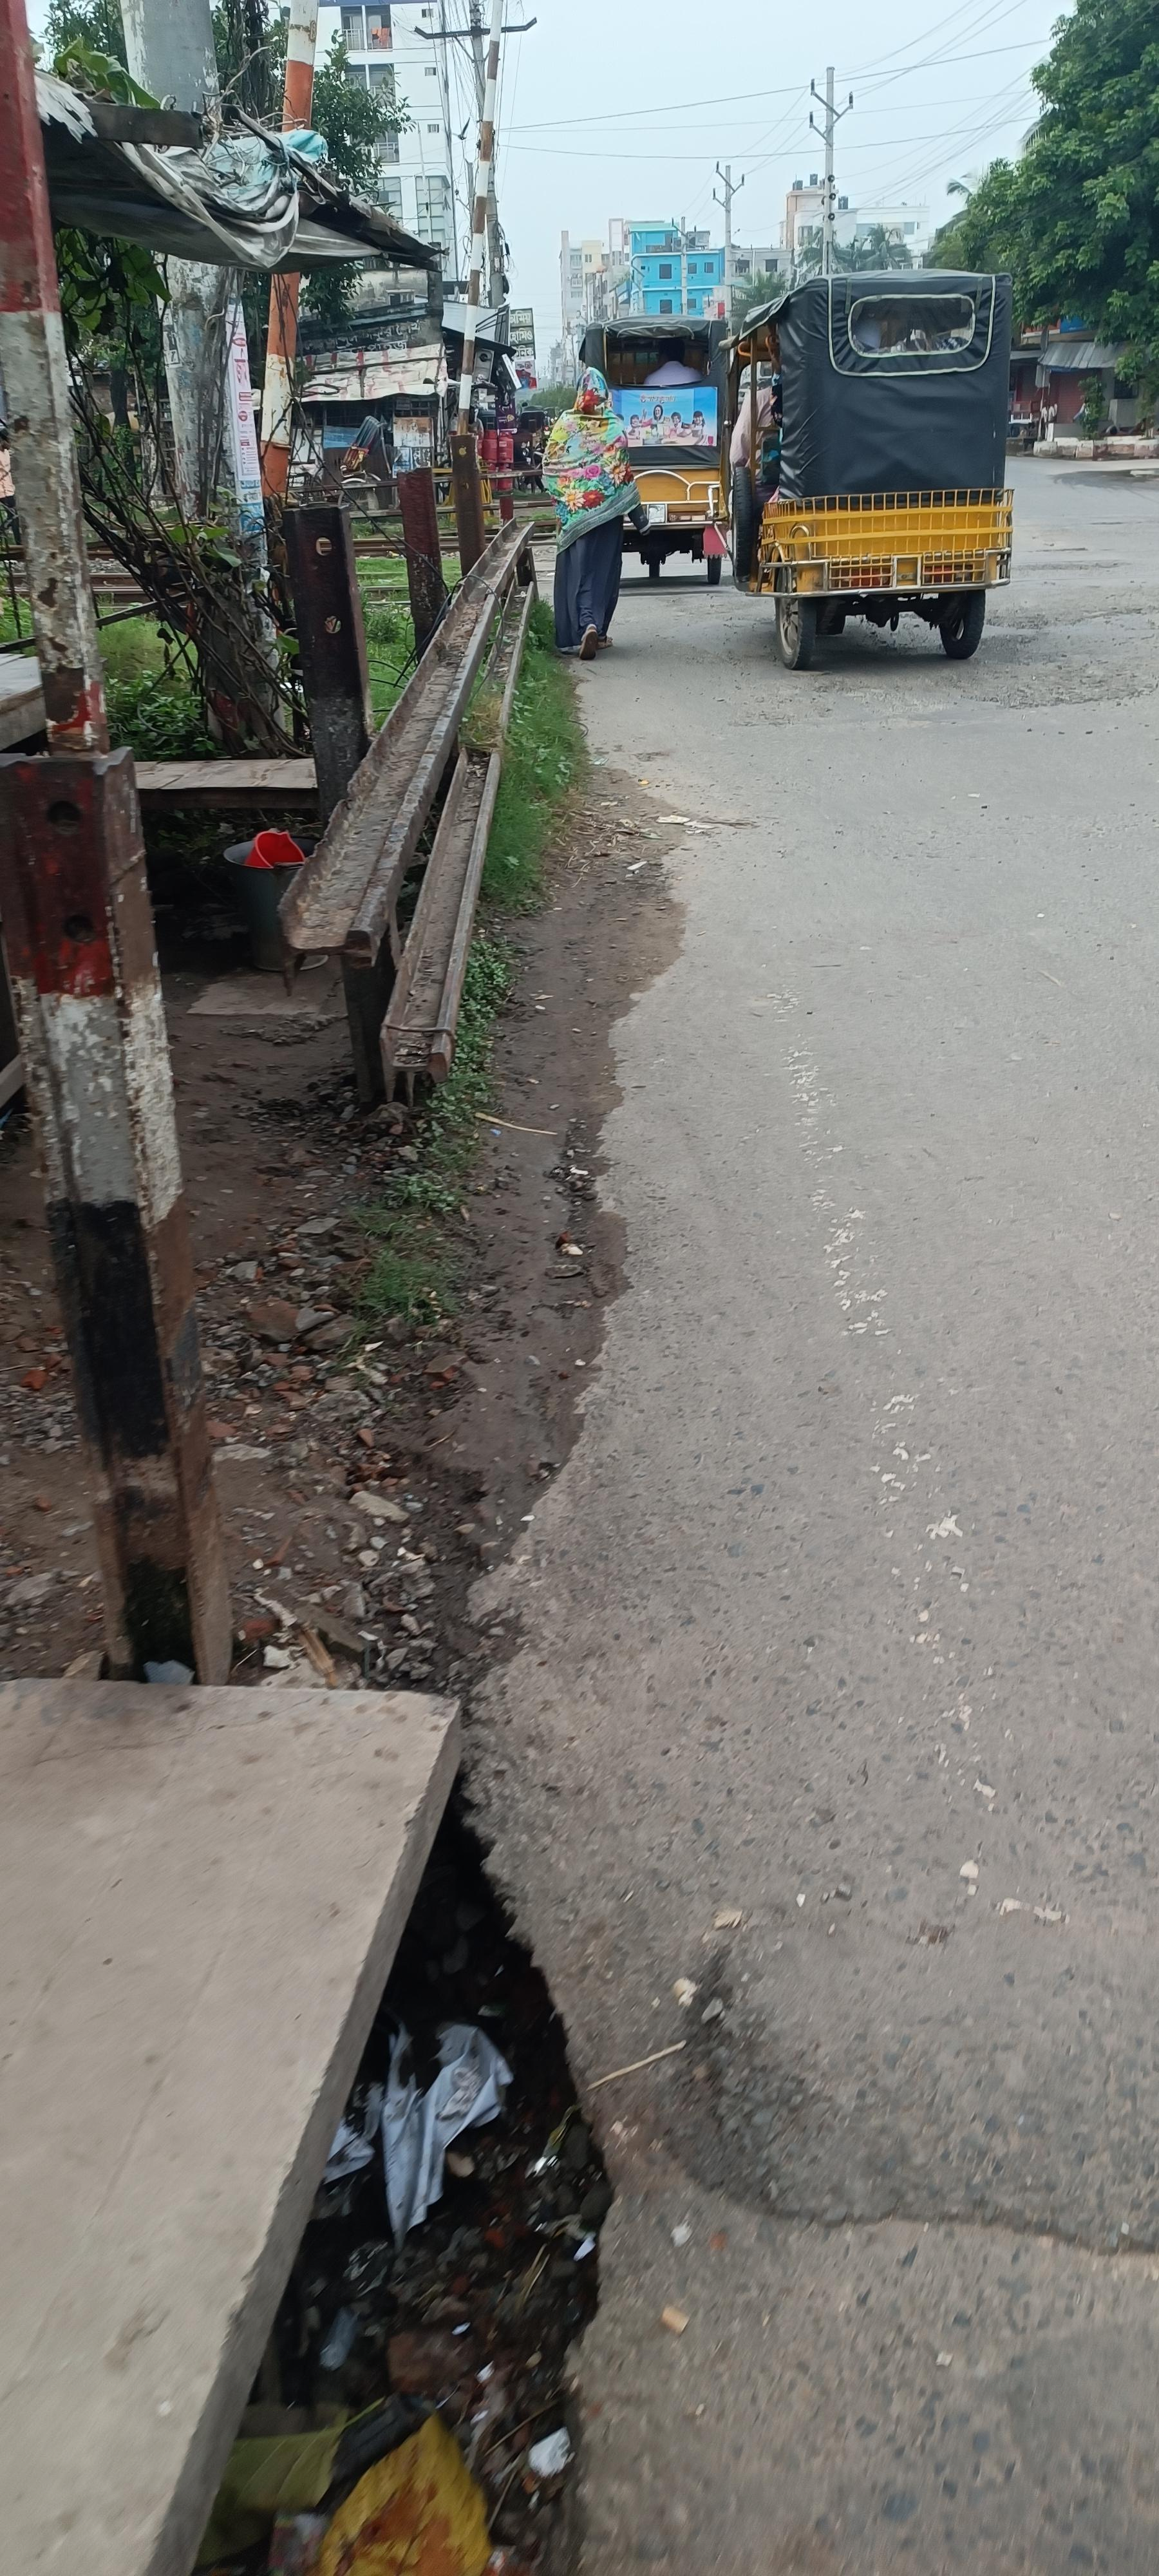Garbage-bin: (542, 366, 642, 660)
Motorcycle: (304, 1687, 663, 2543)
Obstacle: (274, 509, 545, 1111)
Traffic-cone: (721, 268, 1019, 670), (576, 314, 734, 585)
